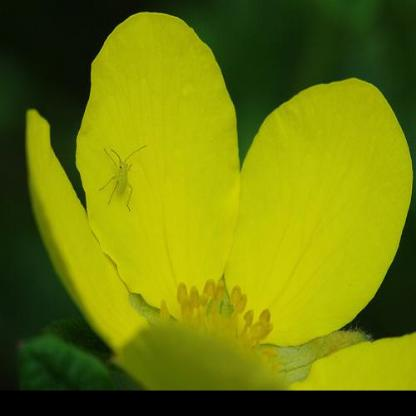aphid: (100, 140, 150, 212)
